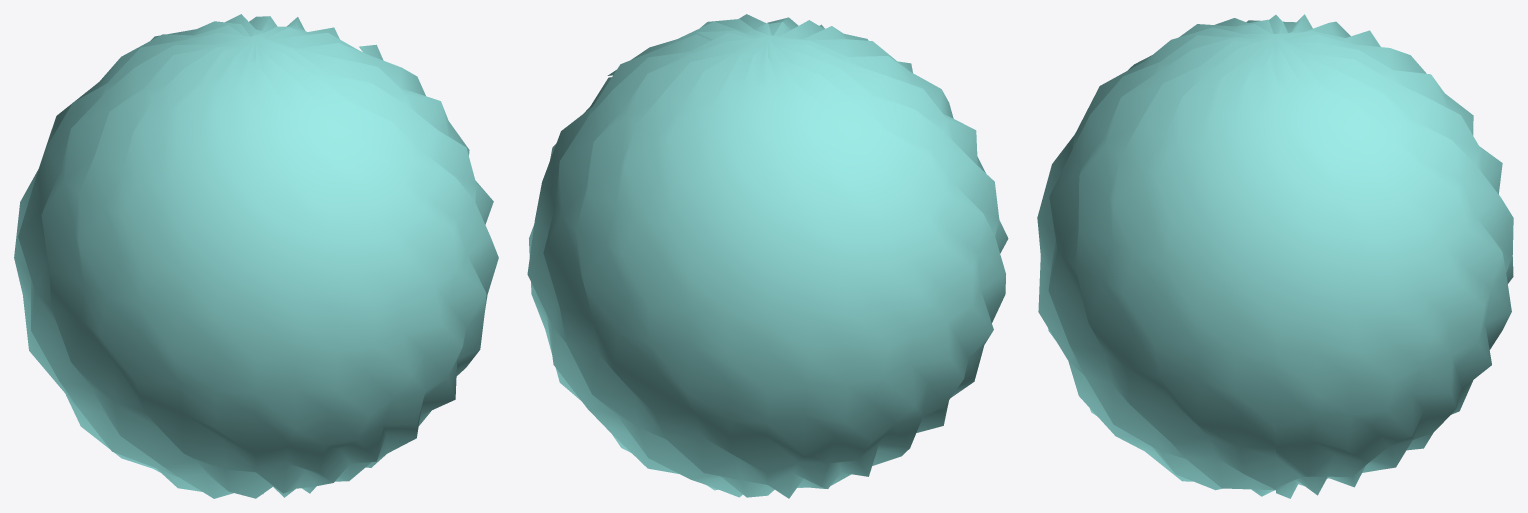
The model's file is advice.glb.
3 views of the same model, side by side, from view 1: azimuth 30°, elevation 25°; view 2: azimuth 150°, elevation 25°; view 3: azimuth 270°, elevation 25° (orthographic).
Bounding box in the file's own units: 2.05 × 2.1 × 2.04.
